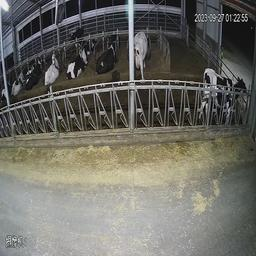cow: (201, 58, 247, 135), (132, 25, 153, 80), (94, 38, 121, 75), (41, 48, 63, 89), (67, 49, 93, 81), (22, 51, 41, 91), (9, 59, 23, 95), (67, 21, 87, 46)
